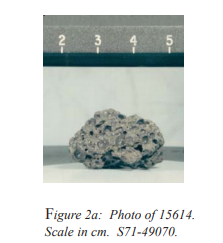Basalt: (64, 108, 171, 171)
